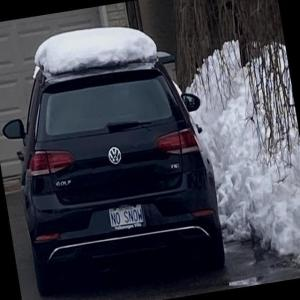Plate: (106, 202, 147, 233)
